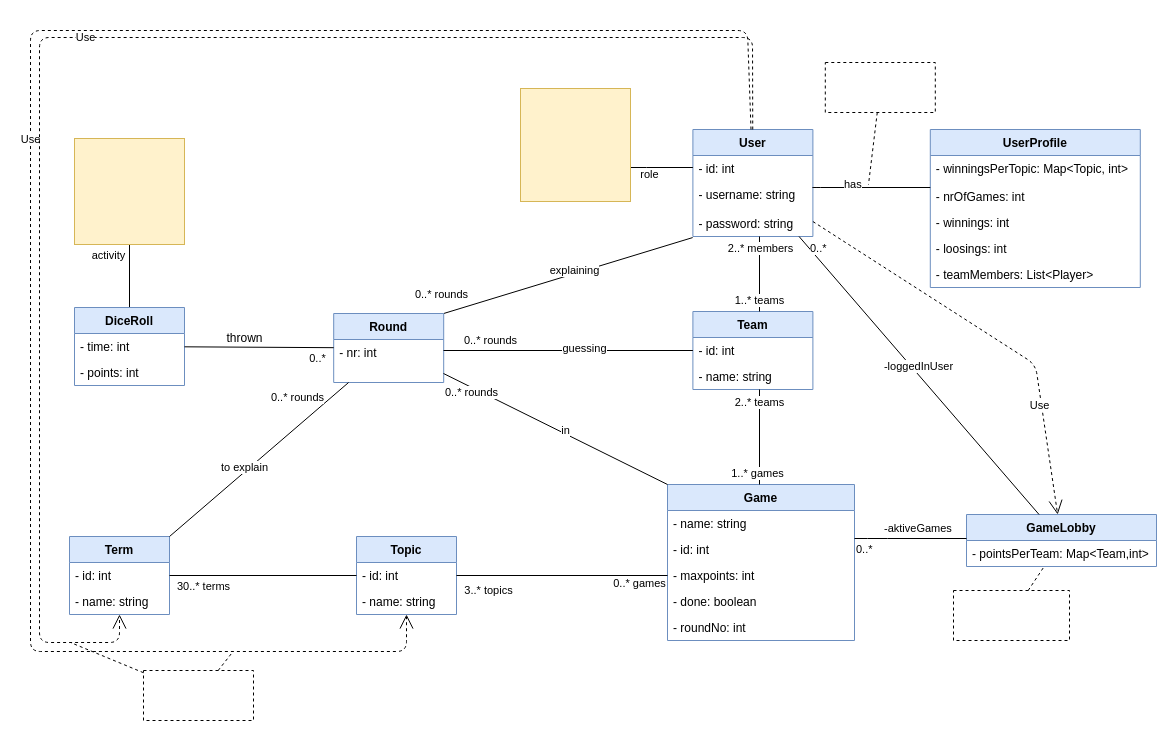
This 1174x738 diagram has some shape labels left out. Each missing label, with the centre of its shape:
"<<enumeration>> Activity Draw Mime Talk Rhyme" goes at (x=129, y=191).
"<<enumeration>> UserRole Player PlayerHost GameAdmin SystemAdmin" goes at (x=575, y=145).
"configuration takes place through PlayerHost" goes at (x=1011, y=615).
"only for User with UserRole -Admin" goes at (x=198, y=695).
"only for User with UserRole Player /PlayerHost" goes at (x=879, y=87).
